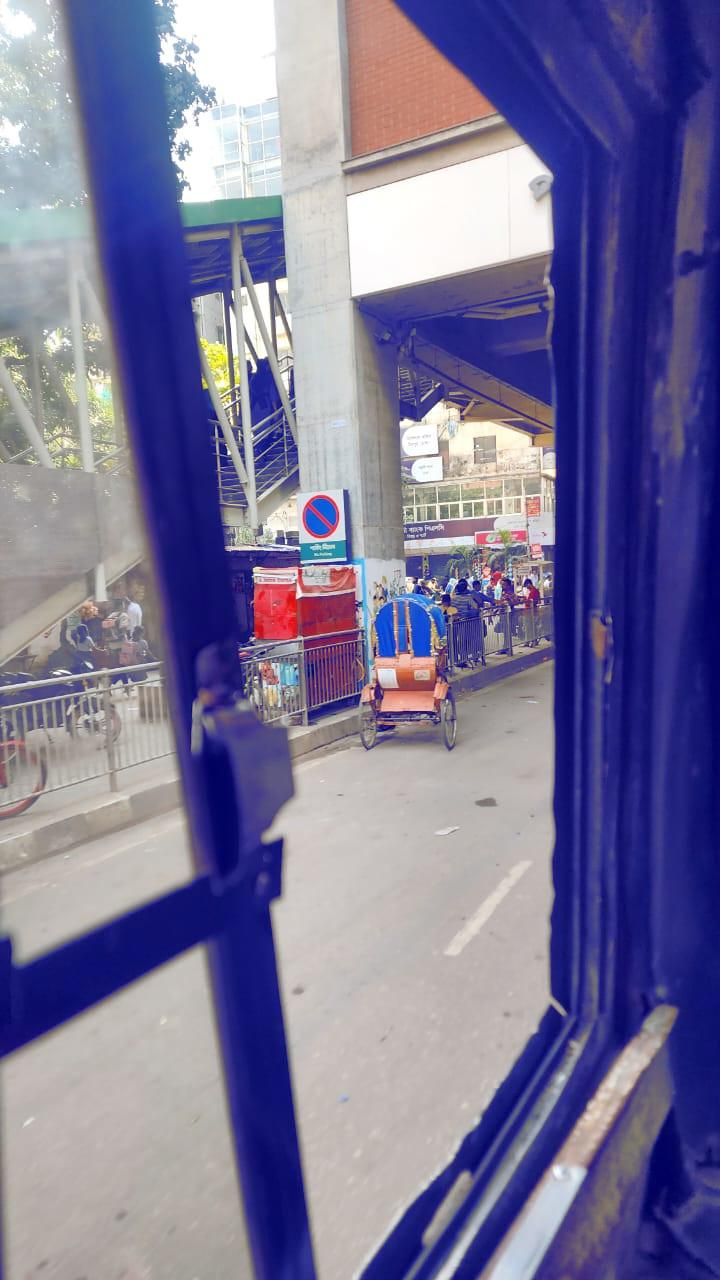No Parking: (298, 490, 350, 563)
